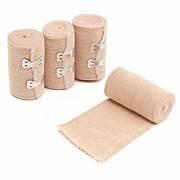cotton: (59, 68, 174, 160), (8, 29, 43, 99), (73, 14, 105, 80), (43, 21, 74, 88)
